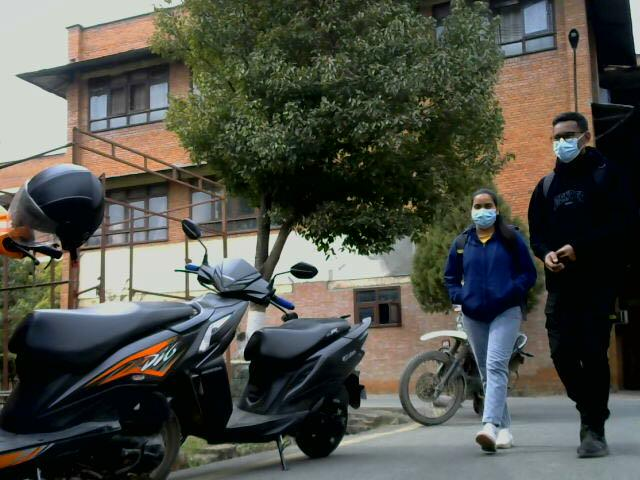Motorcycle: (1, 157, 190, 480), (179, 206, 369, 480)
Person: (530, 112, 630, 469), (446, 186, 527, 455)
Tree: (150, 0, 486, 194)
